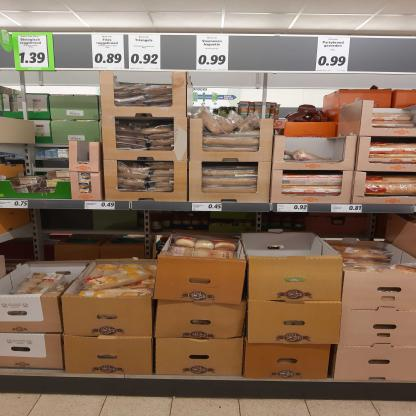prtg: (316, 38, 352, 72), (92, 35, 126, 70), (197, 36, 230, 71), (129, 36, 162, 70), (19, 36, 49, 69), (85, 202, 116, 211), (332, 205, 363, 214), (193, 204, 223, 212), (278, 205, 308, 213), (1, 201, 29, 209)
